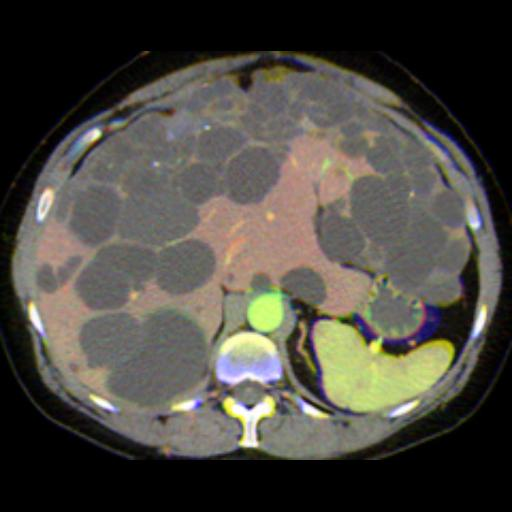Cyst: (58, 72, 470, 307), (107, 312, 209, 406), (119, 164, 197, 243), (76, 243, 155, 307), (315, 198, 365, 262), (223, 147, 279, 203), (158, 239, 215, 294), (80, 313, 138, 366), (70, 185, 120, 244), (280, 268, 324, 303), (37, 258, 77, 291), (250, 274, 271, 290)
